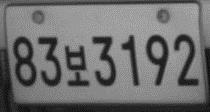1: (120, 34, 140, 87)
2: (173, 33, 199, 87)
3: (36, 35, 62, 87), (91, 35, 116, 86)
8: (11, 35, 36, 86)
9: (145, 33, 168, 86)
보: (64, 44, 90, 86)
